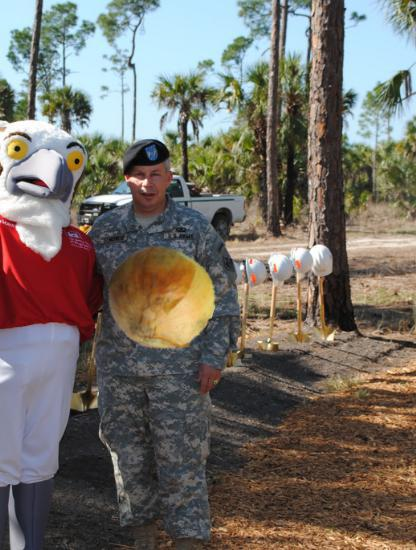Onion: (107, 244, 216, 353)
